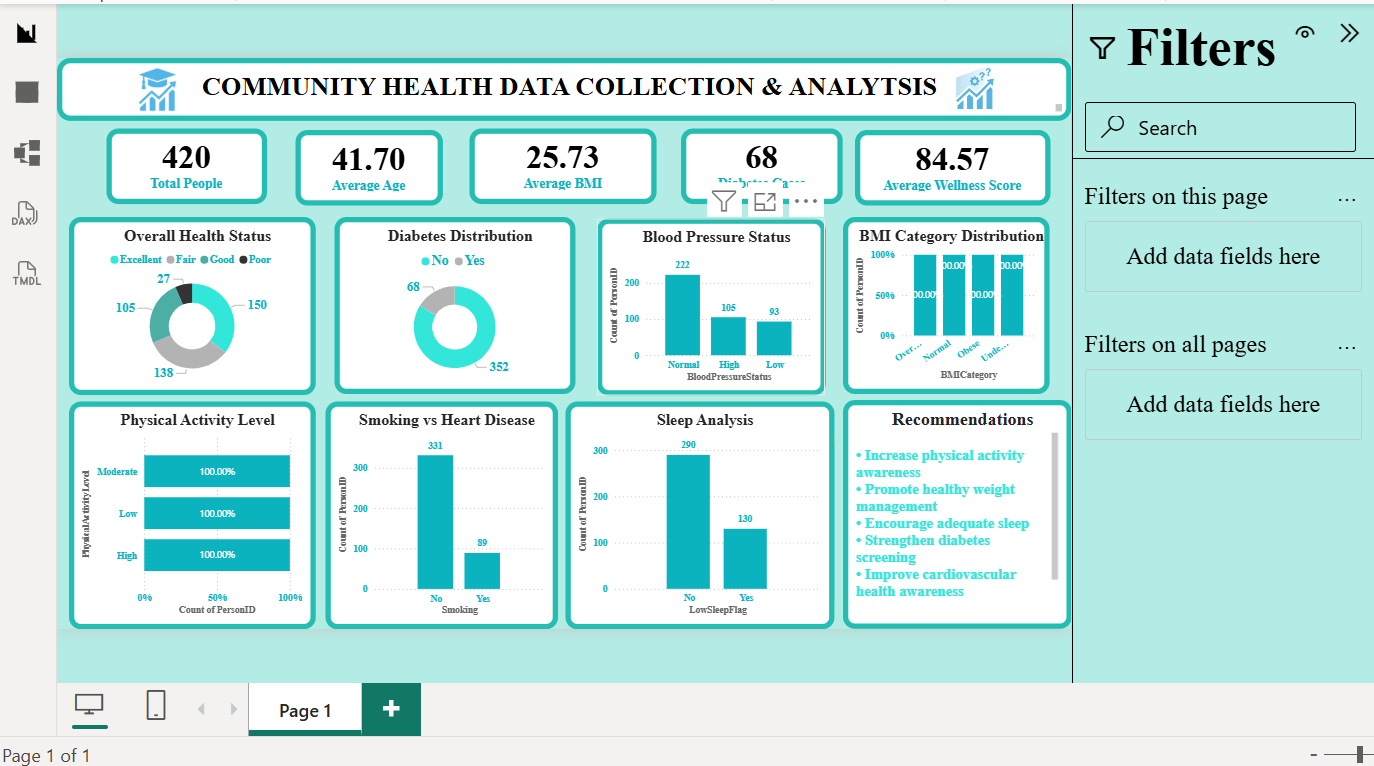

What the dashboard file says about the page in this screenshot:
{"tool":"powerbi","page":{"name":"Page 1","canvas":[1280,720],"ordinal":0},"visuals":[{"type":"textbox","title":"COMMUNITY HEALTH DATA COLLECTION  &  ANALYTSIS","box":[0,0,1280.3,79.5],"z":0},{"type":"cardVisual","fields":{"Data":["CountNonNull(SurveyData.Total People)"]},"box":[62.7,89.3,203,95.4],"z":1000},{"type":"cardVisual","fields":{"Data":["Sum(SurveyData.Diabetes Cases)"]},"box":[787.8,89.3,204.2,95.4],"z":2000},{"type":"cardVisual","fields":{"Data":["Avg(SurveyData.Average Age)"]},"box":[300.4,91.7,185.9,95.4],"z":3000},{"type":"cardVisual","fields":{"Data":["Avg(SurveyData.Average BMI)"]},"box":[521.2,89.3,236,95.4],"z":4000},{"type":"cardVisual","fields":{"Data":["Avg(SurveyData.Average Wellness Score)"]},"box":[1006.3,90.6,246.9,95.3],"z":5000},{"type":"donutChart","title":"Overall Health Status","fields":{"Category":["SurveyData.OverallHealthStatus"],"Y":["CountNonNull(SurveyData.PersonID)"]},"box":[15.7,200.3,311.3,224.4],"z":7000},{"type":"textbox","title":"Recommendations","box":[991,432.2,288.7,288.7],"z":10000},{"type":"lineStackedColumnComboChart","title":"Placement Status By Gender","fields":{"Category":["Sheet1.gender"],"Series":["Sheet1.placement_status"],"Y":["CountNonNull(Sheet1.placement_status)"]},"box":[668.4,475.3,312.5,224.4],"z":12000},{"type":"clusteredColumnChart","title":"Sleep Analysis","fields":{"Y":["CountNonNull(SurveyData.PersonID)"],"Category":["SurveyData.LowSleepFlag"]},"box":[642,433,339,287],"z":13000},{"type":"image","box":[86.8,9.8,77,61.1],"z":14000},{"type":"image","box":[1120,8.2,75.5,61.8],"z":15000},{"type":"clusteredColumnChart","title":"Blood Pressure Status","fields":{"Category":["SurveyData.BloodPressureStatus"],"Y":["CountNonNull(SurveyData.PersonID)"]},"box":[680.4,202.7,288.3,223.2],"z":16000},{"type":"donutChart","title":"Diabetes Distribution","fields":{"Category":["SurveyData.Diabetes"],"Y":["CountNonNull(SurveyData.PersonID)"]},"box":[349.9,201.5,304,223.2],"z":16001},{"type":"hundredPercentStackedColumnChart","title":"BMI Category Distribution","fields":{"Category":["SurveyData.BMICategory"],"Y":["CountNonNull(SurveyData.PersonID)"]},"box":[991.7,201.5,260.6,223.2],"z":16002},{"type":"hundredPercentStackedBarChart","title":"Physical Activity Level","fields":{"Category":["SurveyData.PhysicalActivityLevel"],"Y":["CountNonNull(SurveyData.PersonID)"]},"box":[16,433,311,287],"z":16003},{"type":"columnChart","title":"Smoking vs Heart Disease","fields":{"Category":["SurveyData.Smoking"],"Y":["CountNonNull(SurveyData.PersonID)"]},"box":[339,433.1,293.2,287.1],"z":16004}]}

Visuals, with their boxes on the page's 1280x720 design canvas (x1, y1, x2, y2). These are canvas units, not pixel positions in the 1374x766 screenshot, which may show the page scaled, cropped or inside an application window:
"COMMUNITY HEALTH DATA COLLECTION  &  ANALYTSIS" textbox: <bbox>0, 0, 1280, 80</bbox>
cardVisual - CountNonNull(SurveyData.Total People): <bbox>63, 89, 266, 185</bbox>
cardVisual - Sum(SurveyData.Diabetes Cases): <bbox>788, 89, 992, 185</bbox>
cardVisual - Avg(SurveyData.Average Age): <bbox>300, 92, 486, 187</bbox>
cardVisual - Avg(SurveyData.Average BMI): <bbox>521, 89, 757, 185</bbox>
cardVisual - Avg(SurveyData.Average Wellness Score): <bbox>1006, 91, 1253, 186</bbox>
"Overall Health Status" donutChart: <bbox>16, 200, 327, 425</bbox>
"Recommendations" textbox: <bbox>991, 432, 1280, 721</bbox>
"Placement Status By Gender" lineStackedColumnComboChart: <bbox>668, 475, 981, 700</bbox>
"Sleep Analysis" clusteredColumnChart: <bbox>642, 433, 981, 720</bbox>
image: <bbox>87, 10, 164, 71</bbox>
image: <bbox>1120, 8, 1196, 70</bbox>
"Blood Pressure Status" clusteredColumnChart: <bbox>680, 203, 969, 426</bbox>
"Diabetes Distribution" donutChart: <bbox>350, 202, 654, 425</bbox>
"BMI Category Distribution" hundredPercentStackedColumnChart: <bbox>992, 202, 1252, 425</bbox>
"Physical Activity Level" hundredPercentStackedBarChart: <bbox>16, 433, 327, 720</bbox>
"Smoking vs Heart Disease" columnChart: <bbox>339, 433, 632, 720</bbox>
